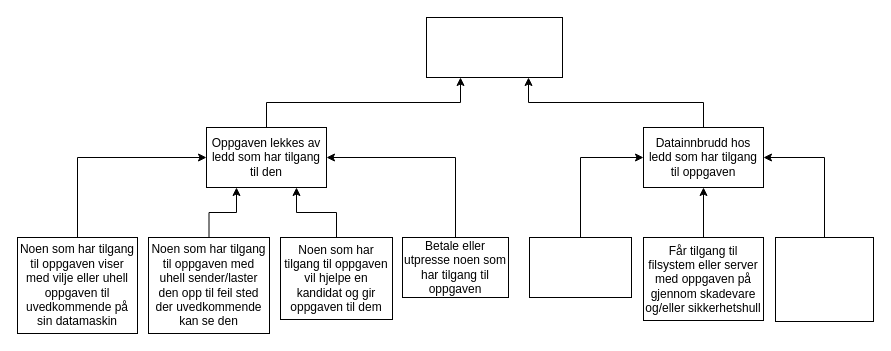
Image size: 891x351. Some labels were removed from this diagram. The centre of each missing label's shape, as x and y in pixels:
Avlytter nettverkstrafikk når oppgaven sendes mellom systemer: (824,279)
Eksamensoppgave kommer på avveie: (494,47)
Får tilgang til fysisk datamaskin med oppgaven på: (580,267)
